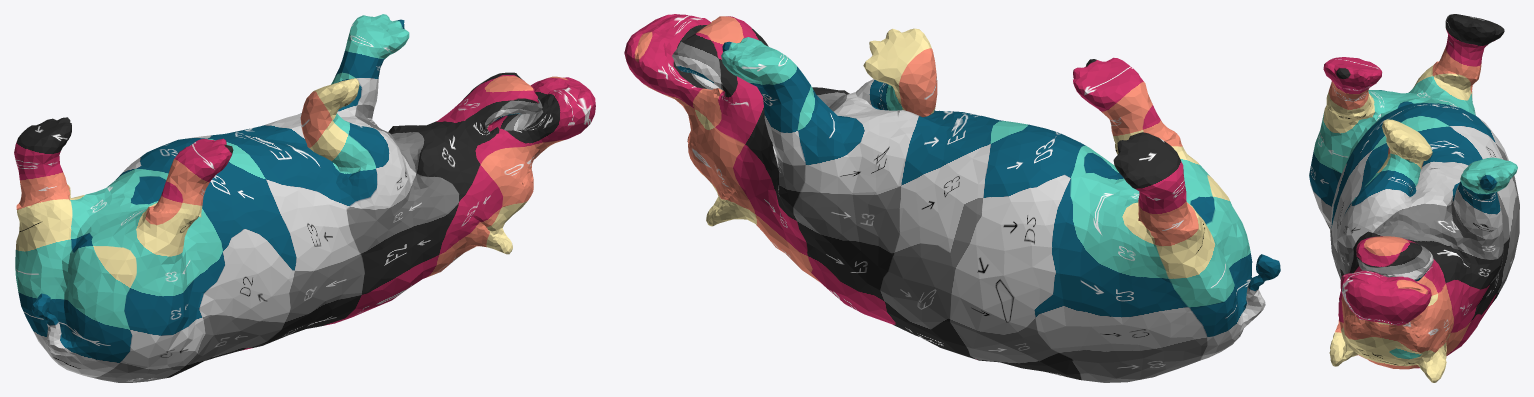
The model's file is cougar_01-hippo_04.obj.
3 renders of one model, left to right at view 1: azimuth 30°, elevation 25°; view 2: azimuth 150°, elevation 25°; view 3: azimuth 270°, elevation 25°, orthographic. The views are drawn at different scales.
Visible parts, largest first — view 1: cougar_01-hippo_04_export; view 2: cougar_01-hippo_04_export; view 3: cougar_01-hippo_04_export.
Part boxes in pixels (box(x1,y1,x2,y2)): cougar_01-hippo_04_export: box(14, 14, 595, 382); cougar_01-hippo_04_export: box(624, 14, 1280, 382); cougar_01-hippo_04_export: box(1309, 14, 1519, 382).
Size of the model in its own units: 0.996 by 0.4291 by 0.3337.
